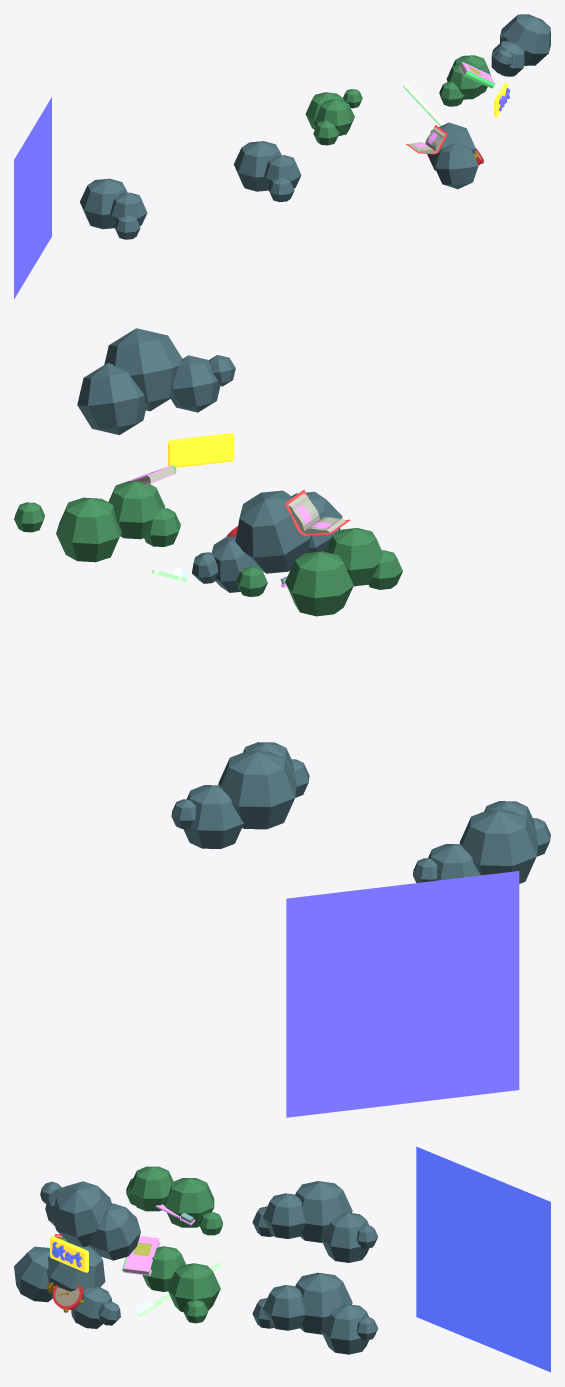
File: FD_starting_screen_AD.fbx
3 views of the same model, one above another, from view 1: azimuth 30°, elevation 25°; view 2: azimuth 150°, elevation 25°; view 3: azimuth 270°, elevation 25° (orthographic). The views are drawn at different scales.
Parts seen in each view (by area): view 1: Cube, 球体_1_2, 球体_1_4, 球体_1, 球体_4_4, 球体_4_6, 球体_4_5, 球体_4_2, 球体_1_3, 球体_4, 球体_2_4, Cube_1 (+7 smaller); view 2: Cube, 球体_1_4, 球体_1_3, 球体_1, 球体_1_2, 球体_4_3, 球体_2_7, 球体_2, 球体_2_6, 球体_4, 球体_4_6, 球体_2_4 (+5 smaller); view 3: Cube, 球体_1_2, 球体_1_4, 球体_1, 球体_4_3, 球体_2, 球体_2_7, 球体_2_6, 球体_2_2, 球体_4_4, 球体_1_3, 球体_4_6 (+15 smaller).
Part boxes in pixels (x1,y1,x2,y2): Cube: (14, 97, 51, 299); 球体_1_2: (502, 14, 550, 65); 球体_1_4: (233, 141, 280, 191); 球体_1: (80, 178, 126, 229); 球体_4_4: (434, 143, 478, 189); 球体_4_6: (315, 99, 354, 136); 球体_4_5: (264, 155, 301, 188); 球体_4_2: (110, 192, 147, 225); 球体_1_3: (427, 122, 475, 170); 球体_4: (446, 62, 484, 99); 球体_2_4: (491, 41, 524, 76); Cube_1: (406, 125, 447, 154); Cube: (286, 871, 519, 1117); 球体_1_4: (218, 751, 296, 829); 球体_1_3: (235, 490, 311, 573); 球体_1: (459, 810, 538, 883); 球体_1_2: (104, 328, 182, 411); 球体_4_3: (77, 363, 146, 435); 球体_2_7: (285, 551, 353, 616); 球体_2: (56, 497, 121, 562); 球体_2_6: (183, 785, 243, 848); 球体_4: (108, 481, 164, 539); 球体_4_6: (325, 528, 383, 586); 球体_2_4: (171, 355, 220, 412); Cube: (416, 1146, 550, 1372); 球体_1_2: (51, 1181, 111, 1247); 球体_1_4: (295, 1272, 352, 1334); 球体_1: (295, 1181, 352, 1242); 球体_4_3: (89, 1203, 140, 1260); 球体_2: (167, 1263, 220, 1311); 球体_2_7: (164, 1178, 214, 1227); 球体_2_6: (320, 1304, 369, 1354); 球体_2_2: (320, 1212, 369, 1262); 球体_4_4: (14, 1246, 52, 1302); 球体_1_3: (46, 1240, 105, 1296); 球体_4_6: (130, 1166, 173, 1211).
Bounding box in the file's own units: 616 × 416 × 571.
